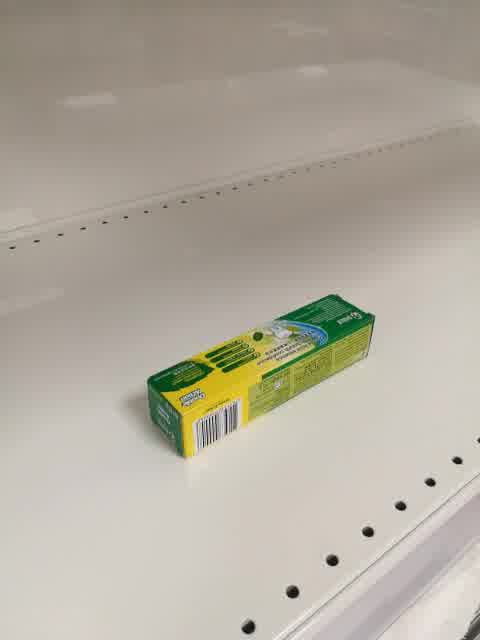toothpaste: (146, 293, 377, 460)
